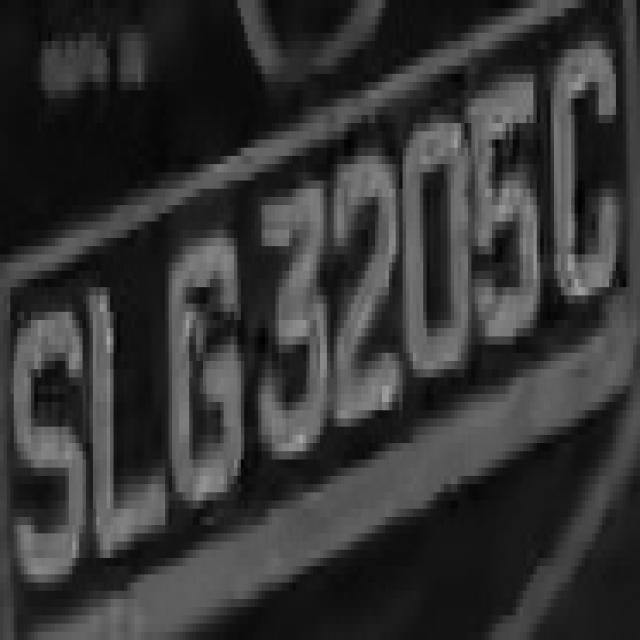0: (399, 82, 478, 402)
2: (316, 132, 402, 460)
3: (251, 156, 327, 476)
5: (458, 74, 547, 369)
C: (547, 25, 626, 336)
G: (158, 197, 241, 541)
L: (86, 255, 169, 574)
S: (10, 287, 83, 607)
